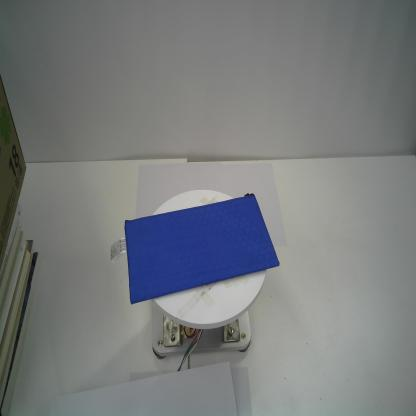Stationery: (124, 192, 280, 306)
